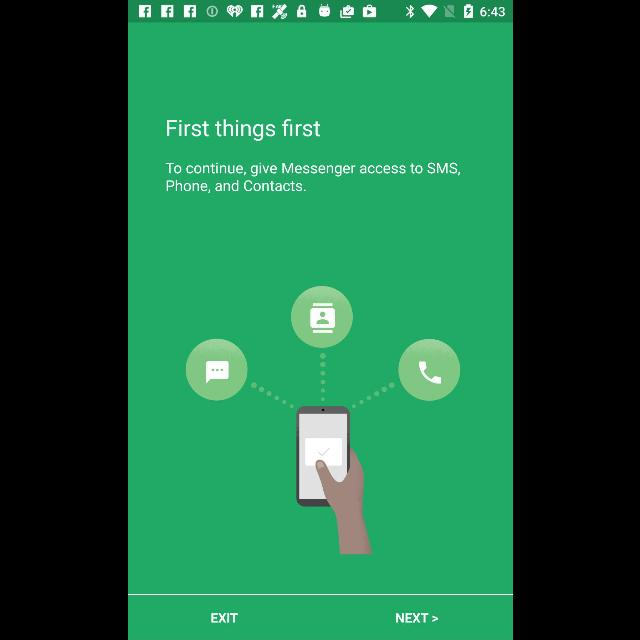image: (185, 286, 460, 554)
text: (164, 162, 460, 194), (166, 118, 320, 142), (394, 612, 438, 624), (210, 613, 238, 623)
uppertaskbar: (128, 1, 512, 23)
